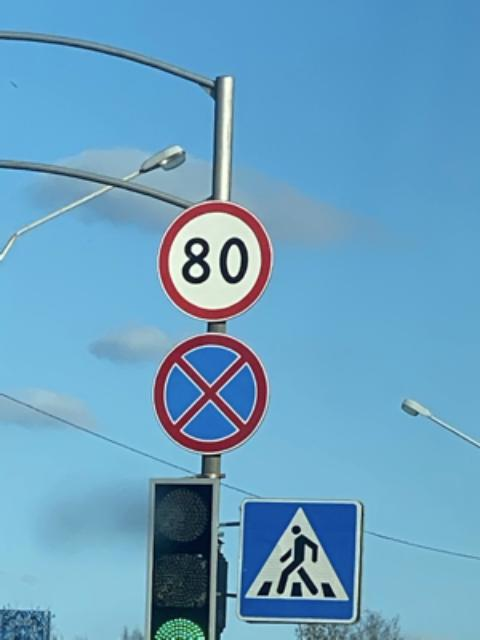crosswalk-sign: (235, 496, 364, 625)
